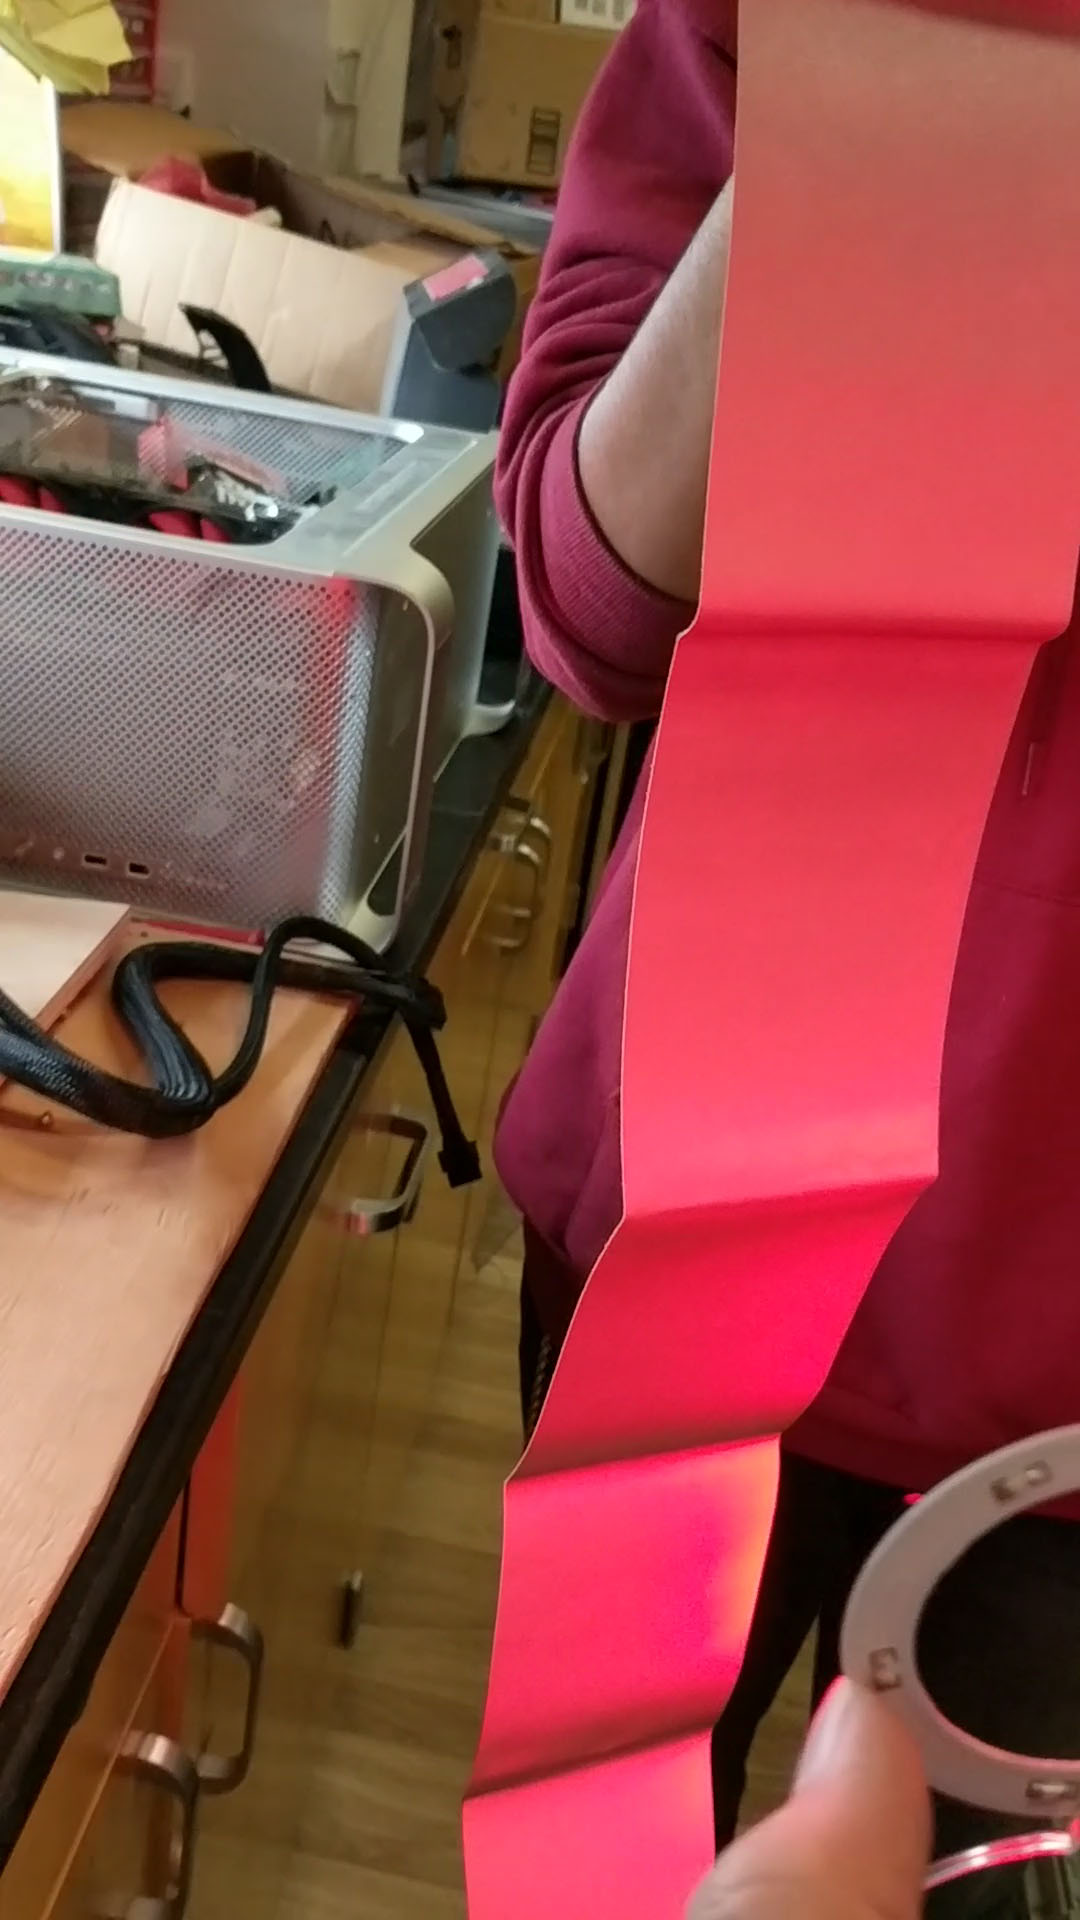gear: (464, 0, 1080, 1920)
